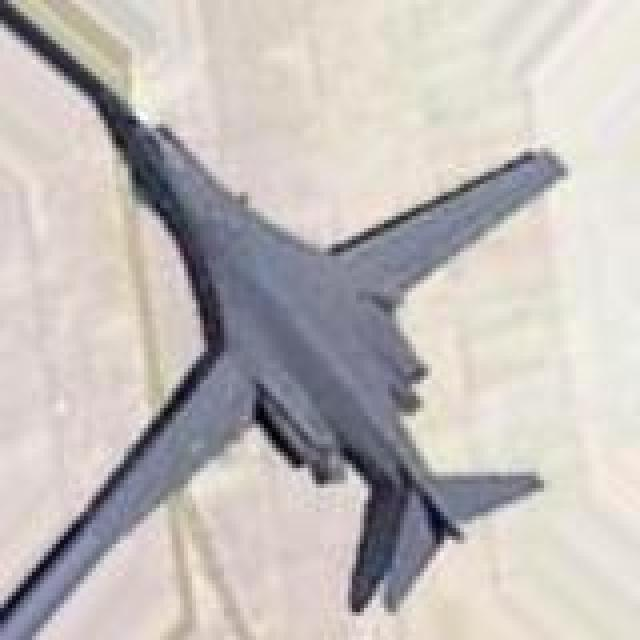B-1_TopDown: (0, 0, 568, 636)
